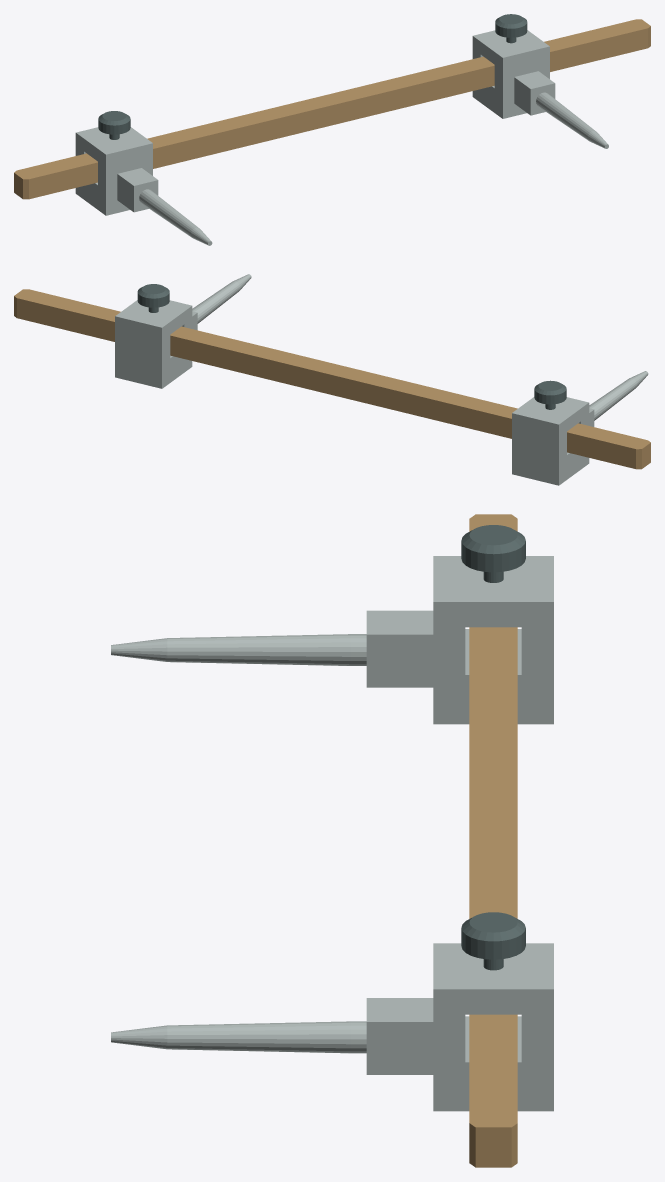
3 views of the same model, one above another, from view 1: azimuth 30°, elevation 25°; view 2: azimuth 150°, elevation 25°; view 3: azimuth 270°, elevation 25° (orthographic). The views are drawn at different scales.
Visible parts, largest first — view 1: WholeSingleChamferEndedBeam, WholeBoredSliderWithPointNeck1, WholeBoredSliderWithPointNeck0, WholeForwardBluntPoint0, WholeForwardBluntPoint1, WholeFixedLockStemAndThumbCap1, WholeFixedLockStemAndThumbCap0; view 2: WholeSingleChamferEndedBeam, WholeBoredSliderWithPointNeck1, WholeBoredSliderWithPointNeck0, WholeForwardBluntPoint0, WholeForwardBluntPoint1, WholeFixedLockStemAndThumbCap0, WholeFixedLockStemAndThumbCap1; view 3: WholeSingleChamferEndedBeam, WholeBoredSliderWithPointNeck0, WholeBoredSliderWithPointNeck1, WholeForwardBluntPoint1, WholeForwardBluntPoint0, WholeFixedLockStemAndThumbCap1, WholeFixedLockStemAndThumbCap0.
Part boxes in pixels (left/top/right/bottom): WholeSingleChamferEndedBeam: left=14, top=19, right=650, bottom=199; WholeBoredSliderWithPointNeck1: left=472, top=30, right=555, bottom=118; WholeBoredSliderWithPointNeck0: left=75, top=127, right=158, bottom=215; WholeForwardBluntPoint0: left=139, top=189, right=212, bottom=245; WholeForwardBluntPoint1: left=536, top=92, right=608, bottom=148; WholeFixedLockStemAndThumbCap1: left=495, top=14, right=527, bottom=43; WholeFixedLockStemAndThumbCap0: left=98, top=111, right=130, bottom=139; WholeSingleChamferEndedBeam: left=14, top=289, right=650, bottom=469; WholeBoredSliderWithPointNeck1: left=115, top=300, right=197, bottom=388; WholeBoredSliderWithPointNeck0: left=512, top=397, right=594, bottom=485; WholeForwardBluntPoint0: left=589, top=371, right=648, bottom=420; WholeForwardBluntPoint1: left=192, top=274, right=251, bottom=323; WholeFixedLockStemAndThumbCap0: left=534, top=380, right=566, bottom=409; WholeFixedLockStemAndThumbCap1: left=137, top=284, right=169, bottom=312; WholeSingleChamferEndedBeam: left=469, top=514, right=517, bottom=1167; WholeBoredSliderWithPointNeck0: left=366, top=556, right=553, bottom=724; WholeBoredSliderWithPointNeck1: left=366, top=943, right=553, bottom=1111; WholeForwardBluntPoint1: left=111, top=1021, right=366, bottom=1053; WholeForwardBluntPoint0: left=111, top=634, right=366, bottom=665; WholeFixedLockStemAndThumbCap1: left=461, top=912, right=525, bottom=970; WholeFixedLockStemAndThumbCap0: left=461, top=525, right=525, bottom=582.
Bounding box in the file's own units: 0.72 × 0.091 × 0.22.
